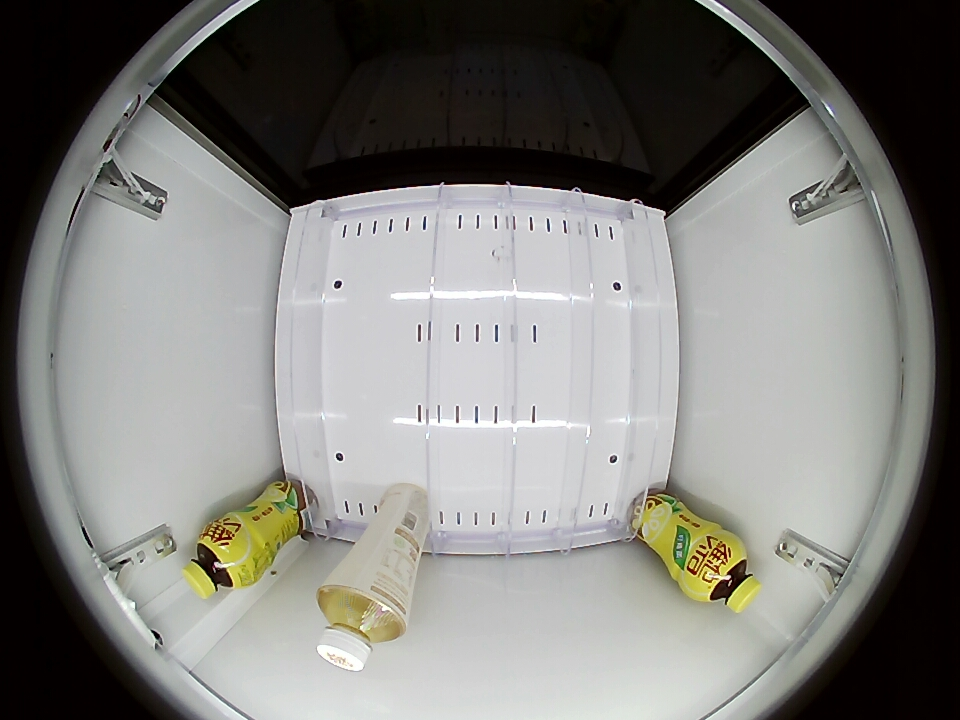rancha-2: (316, 582, 407, 673)
weitaningmeng-bottle: (687, 536, 762, 614), (182, 522, 257, 598)
